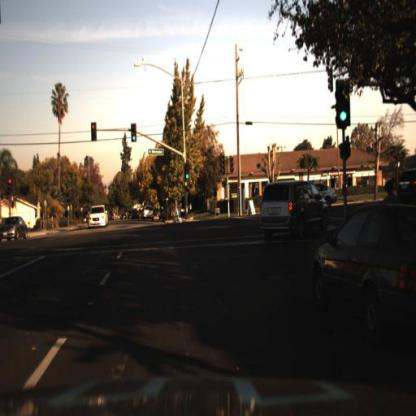car: (260, 178, 330, 242), (2, 214, 30, 245), (313, 184, 339, 211), (89, 206, 109, 232), (141, 202, 156, 225), (129, 205, 142, 225)
trafficLight: (338, 81, 351, 127)
trafficLight-Green: (130, 121, 138, 145), (186, 163, 192, 184)
trafficLight-RedLeft: (92, 120, 100, 143), (7, 177, 14, 200), (8, 178, 13, 199)
